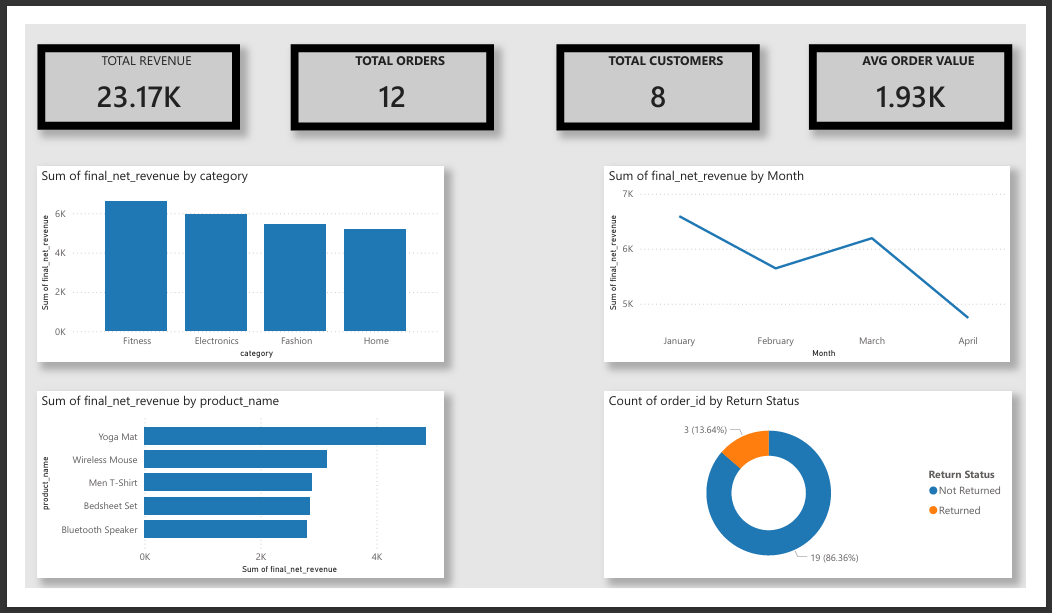

What the dashboard file says about the page in this screenshot:
{"tool":"powerbi","page":{"name":"Page 1","canvas":[1280,720],"ordinal":0},"visuals":[{"type":"card","title":"TOTAL REVENUE","fields":{"Values":["Sum(final_sales_data.final_net_revenue)"]},"box":[15.1,24.6,258.9,109.6],"z":0},{"type":"card","title":"TOTAL ORDERS","fields":{"Values":["Count(final_sales_data.order_id)"]},"box":[338.8,24.6,260,110],"z":1},{"type":"card","title":"TOTAL CUSTOMERS","fields":{"Values":["Count(final_sales_data.customer_name)"]},"box":[678.7,24.6,260,110],"z":2},{"type":"card","title":"AVG ORDER VALUE","fields":{"Values":["final_sales_data.Avg Order Value"]},"box":[1001.6,24.6,260.8,109.6],"z":3},{"type":"clusteredColumnChart","fields":{"Category":["final_sales_data.category"],"Y":["Sum(final_sales_data.final_net_revenue)"]},"box":[15.1,181.4,519.7,249.5],"z":4},{"type":"lineChart","fields":{"Category":["final_sales_data.order_date.Variation.Date Hierarchy.Month"],"Y":["Sum(final_sales_data.final_net_revenue)"]},"box":[740.8,181.4,519.7,249.5],"z":5},{"type":"clusteredBarChart","fields":{"Category":["final_sales_data.product_name"],"Y":["Sum(final_sales_data.final_net_revenue)"]},"box":[15.1,468.7,519.7,238.1],"z":6},{"type":"donutChart","fields":{"Category":["final_sales_data.Return Status","final_sales_data.return_flag"],"Y":["CountNonNull(final_sales_data.order_id)"]},"box":[740.8,468.7,521.6,238.1],"z":7}]}

Visuals, with their boxes on the page's 1280x720 design canvas (x1, y1, x2, y2). These are canvas units, not pixel positions in the 1052x613 screenshot, which may show the page scaled, cropped or inside an application window:
"TOTAL REVENUE" card: left=15, top=25, right=274, bottom=134
"TOTAL ORDERS" card: left=339, top=25, right=599, bottom=135
"TOTAL CUSTOMERS" card: left=679, top=25, right=939, bottom=135
"AVG ORDER VALUE" card: left=1002, top=25, right=1262, bottom=134
clusteredColumnChart - final_sales_data.category x Sum(final_sales_data.final_net_revenue): left=15, top=181, right=535, bottom=431
lineChart - final_sales_data.order_date.Variation.Date Hierarchy.Month x Sum(final_sales_data.final_net_revenue): left=741, top=181, right=1260, bottom=431
clusteredBarChart - final_sales_data.product_name x Sum(final_sales_data.final_net_revenue): left=15, top=469, right=535, bottom=707
donutChart - final_sales_data.Return Status x final_sales_data.return_flag: left=741, top=469, right=1262, bottom=707
